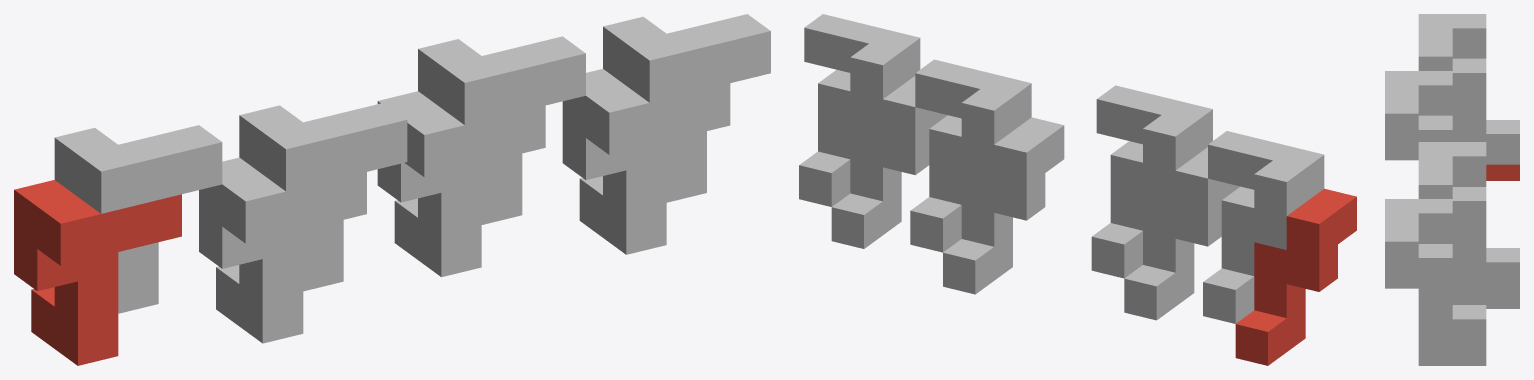
File: tiling.obj
3 views of the same model, side by side, from view 1: azimuth 30°, elevation 25°; view 2: azimuth 150°, elevation 25°; view 3: azimuth 270°, elevation 25° (orthographic). The views are drawn at different scales.
Parts seen in each view (by area): view 1: copy_1_domain_1, copy_1_domain_6, copy_1_domain_2, copy_1_domain_5, copy_1_domain_7, copy_1_domain_4, copy_1_domain_3, copy_1_domain_8; view 2: copy_1_domain_3, copy_1_domain_7, copy_1_domain_4, copy_1_domain_8, copy_1_domain_5, copy_1_domain_1, copy_1_domain_6, copy_1_domain_2; view 3: copy_1_domain_8, copy_1_domain_7, copy_1_domain_3, copy_1_domain_4, copy_1_domain_6, copy_1_domain_5, copy_1_domain_1, copy_1_domain_2.
Boxes of the visible parts, <box> form: copy_1_domain_1: <box>14,180,181,365</box>; copy_1_domain_6: <box>562,69,730,254</box>; copy_1_domain_2: <box>199,157,366,343</box>; copy_1_domain_5: <box>377,91,545,277</box>; copy_1_domain_7: <box>418,36,585,224</box>; copy_1_domain_4: <box>239,102,407,291</box>; copy_1_domain_3: <box>54,125,222,313</box>; copy_1_domain_8: <box>603,14,770,202</box>; copy_1_domain_3: <box>1203,131,1324,323</box>; copy_1_domain_7: <box>910,59,1031,252</box>; copy_1_domain_4: <box>1091,85,1212,278</box>; copy_1_domain_8: <box>799,14,920,206</box>; copy_1_domain_5: <box>943,117,1064,294</box>; copy_1_domain_1: <box>1235,188,1356,365</box>; copy_1_domain_6: <box>831,76,947,248</box>; copy_1_domain_2: <box>1124,147,1240,320</box>; copy_1_domain_8: <box>1385,199,1486,349</box>; copy_1_domain_7: <box>1418,142,1519,292</box>; copy_1_domain_3: <box>1418,14,1519,164</box>; copy_1_domain_4: <box>1385,71,1452,144</box>; copy_1_domain_6: <box>1385,272,1486,365</box>; copy_1_domain_5: <box>1452,292,1519,308</box>; copy_1_domain_1: <box>1486,164,1519,180</box>; copy_1_domain_2: <box>1385,144,1418,160</box>.
Size of the model in its own units: 17 by 5 by 4.
